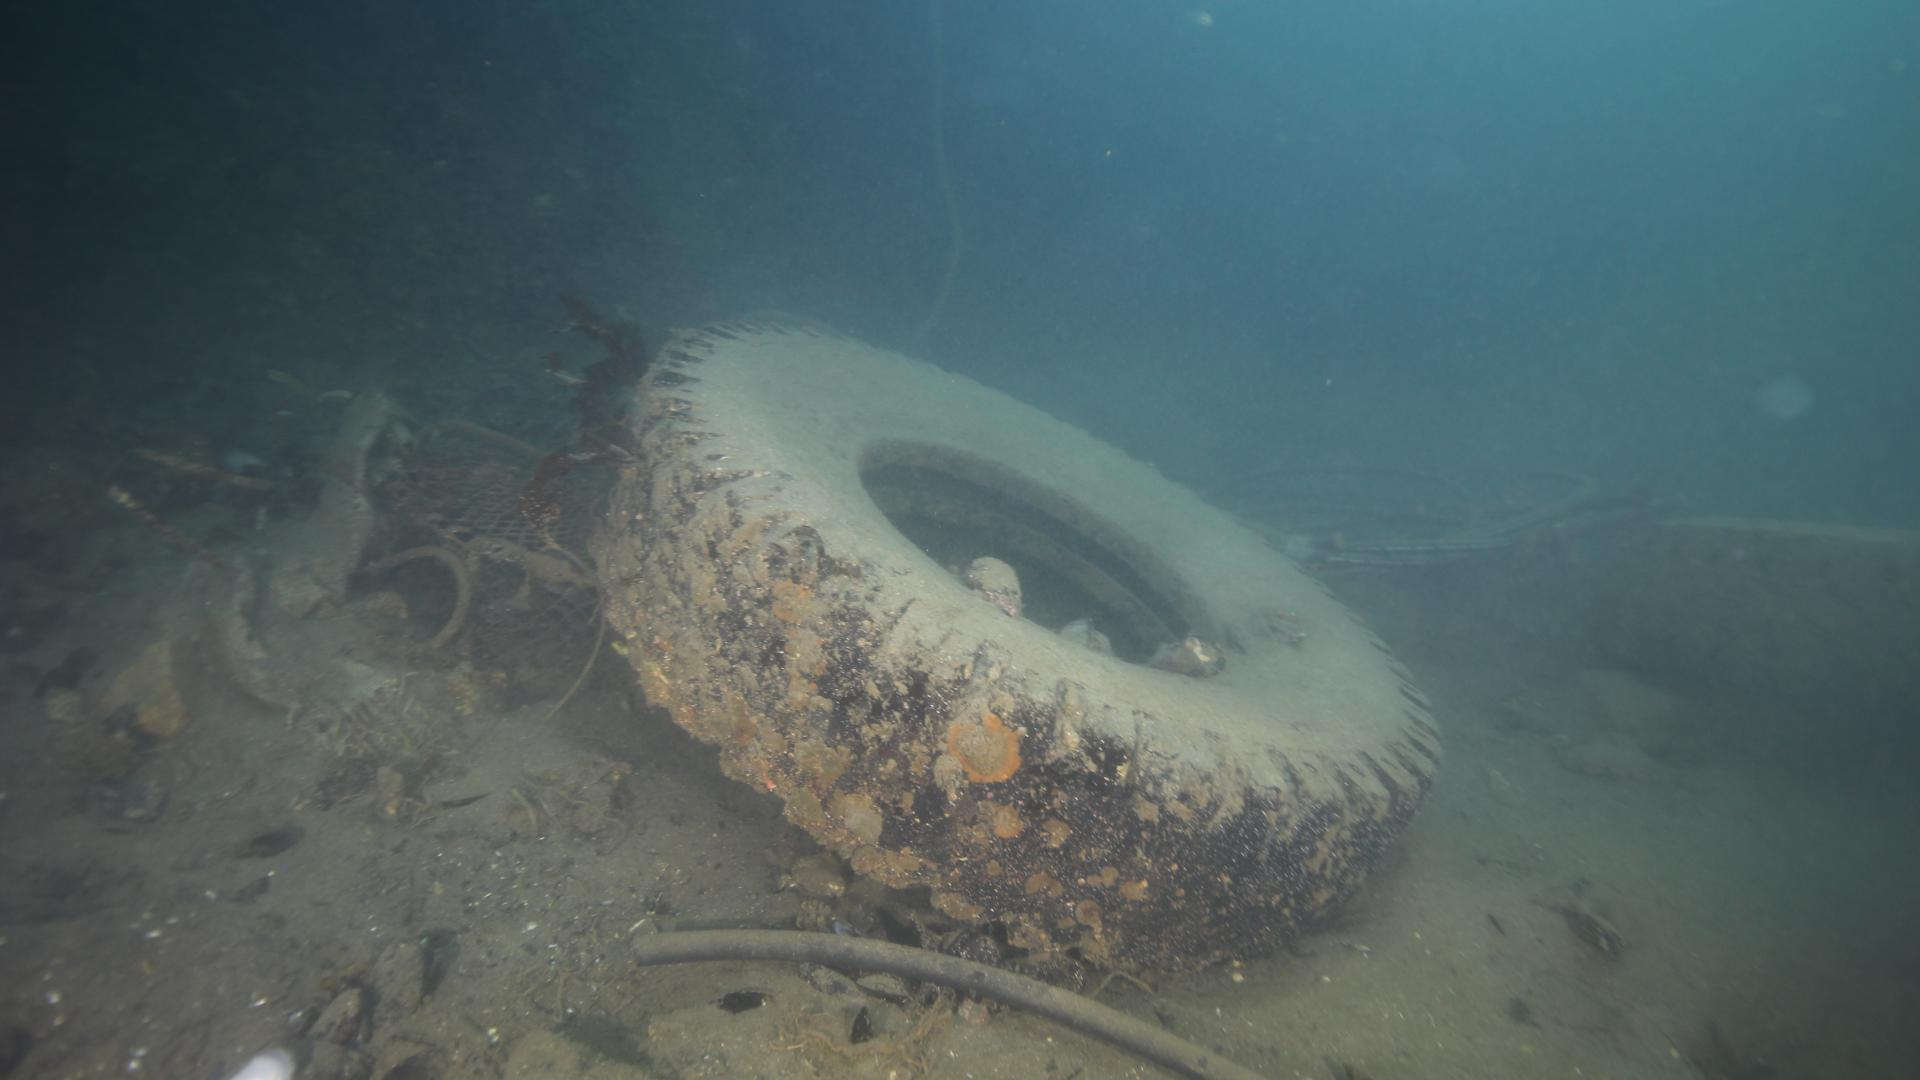tire: (597, 301, 1440, 981)
